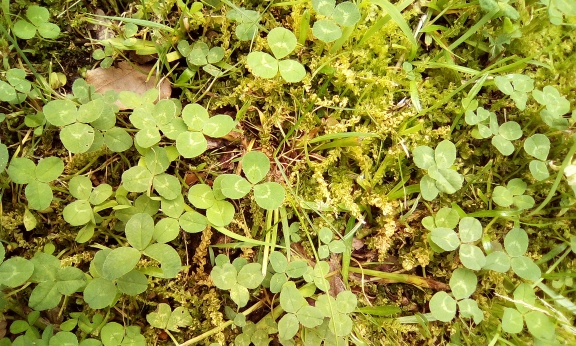4leaf: (128, 99, 189, 148), (412, 139, 460, 200)
